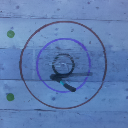Axe Tip: (56, 74, 68, 77)
